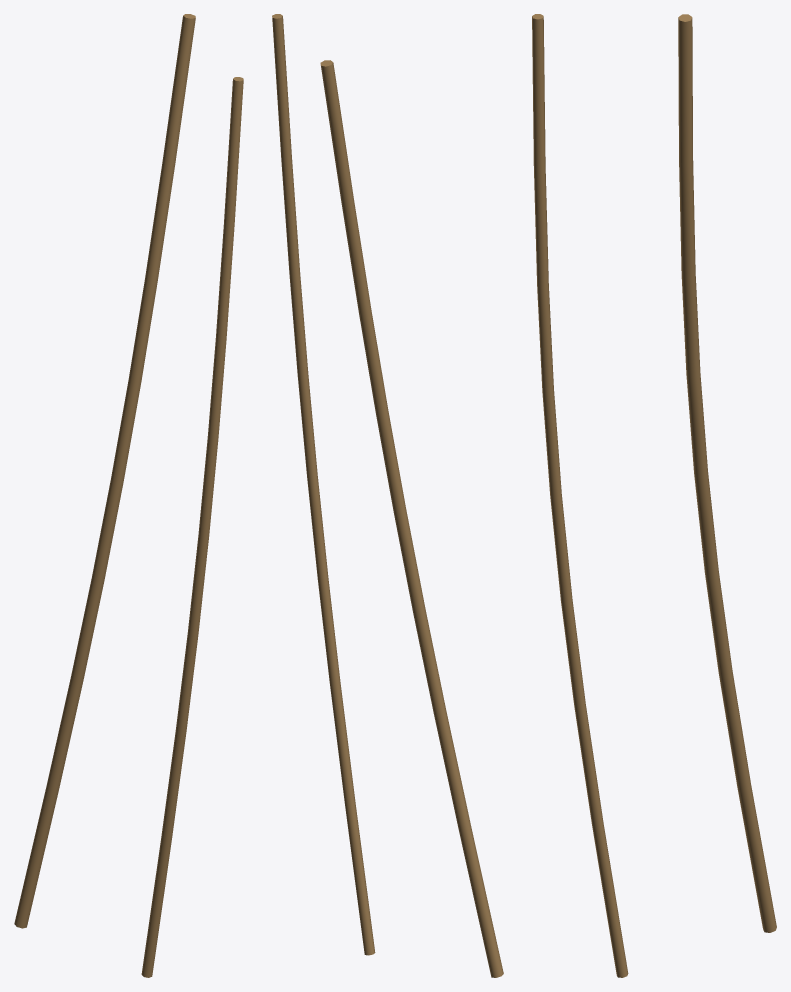
Rendered from SM_Menu_FlyRopes.fbx.
3 views of the same model, side by side, from view 1: azimuth 30°, elevation 25°; view 2: azimuth 210°, elevation 25°; view 3: azimuth 270°, elevation 25° (orthographic). The views are drawn at different scales.
Parts seen in each view (by area): view 1: SM_Menu_FlyRopes; view 2: SM_Menu_FlyRopes; view 3: SM_Menu_FlyRopes.
Boxes of the visible parts, <box> form: SM_Menu_FlyRopes: <box>14,14,243,977</box>; SM_Menu_FlyRopes: <box>272,14,503,977</box>; SM_Menu_FlyRopes: <box>532,14,776,977</box>.
Bounding box in the file's own units: 72.67 × 101 × 455.
